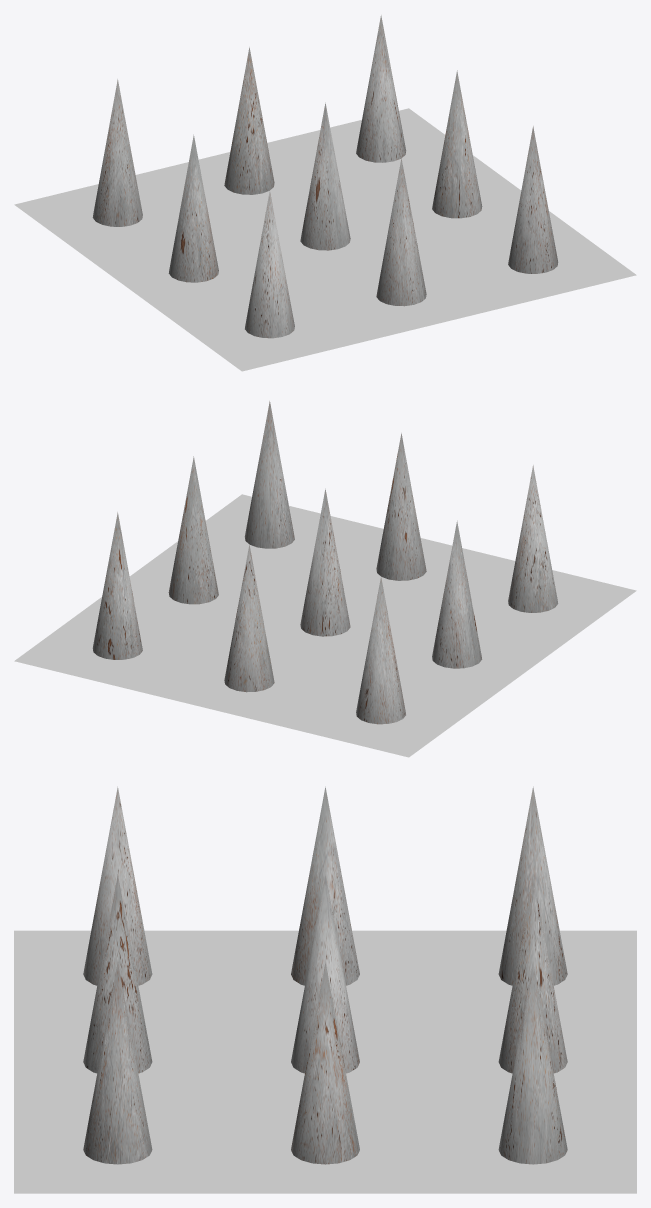
The model's file is Spuntoni.fbx.
3 views of the same model, one above another, from view 1: azimuth 30°, elevation 25°; view 2: azimuth 150°, elevation 25°; view 3: azimuth 270°, elevation 25° (orthographic). The views are drawn at different scales.
Visible parts, largest first — view 1: spuntoni; view 2: spuntoni; view 3: spuntoni.
Boxes of the visible parts, x1=… form: spuntoni: x1=14, y1=15, x2=636, y2=371; spuntoni: x1=14, y1=401, x2=636, y2=757; spuntoni: x1=14, y1=786, x2=636, y2=1193.
Bounding box in the file's own units: 200 × 66.67 × 200.
